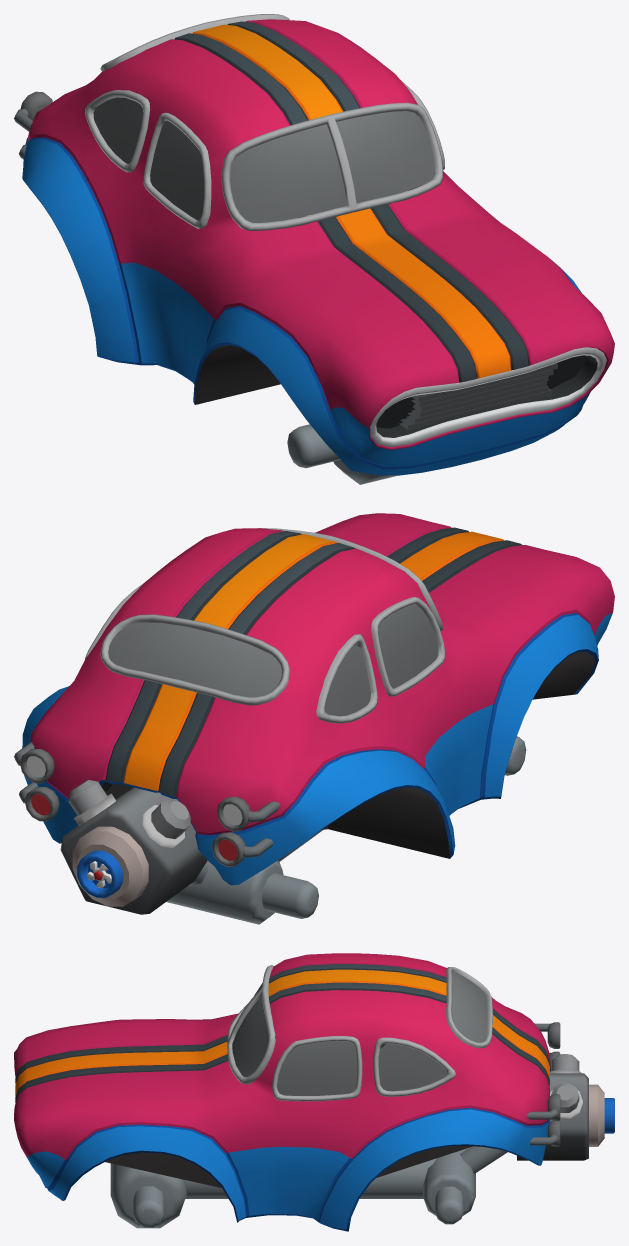
The model's file is Car_11.fbx.
3 renders of one model, top to bottom at view 1: azimuth 30°, elevation 25°; view 2: azimuth 150°, elevation 25°; view 3: azimuth 270°, elevation 25°, orthographic. The views are drawn at different scales.
Visible parts, largest first — view 1: Car_11; view 2: Car_11; view 3: Car_11.
Part boxes in pixels (left/top/right/bottom): Car_11: left=14, top=14, right=614, bottom=484; Car_11: left=14, top=513, right=614, bottom=924; Car_11: left=14, top=953, right=614, bottom=1231.
Size of the model in its own units: 202 by 389 by 166.
